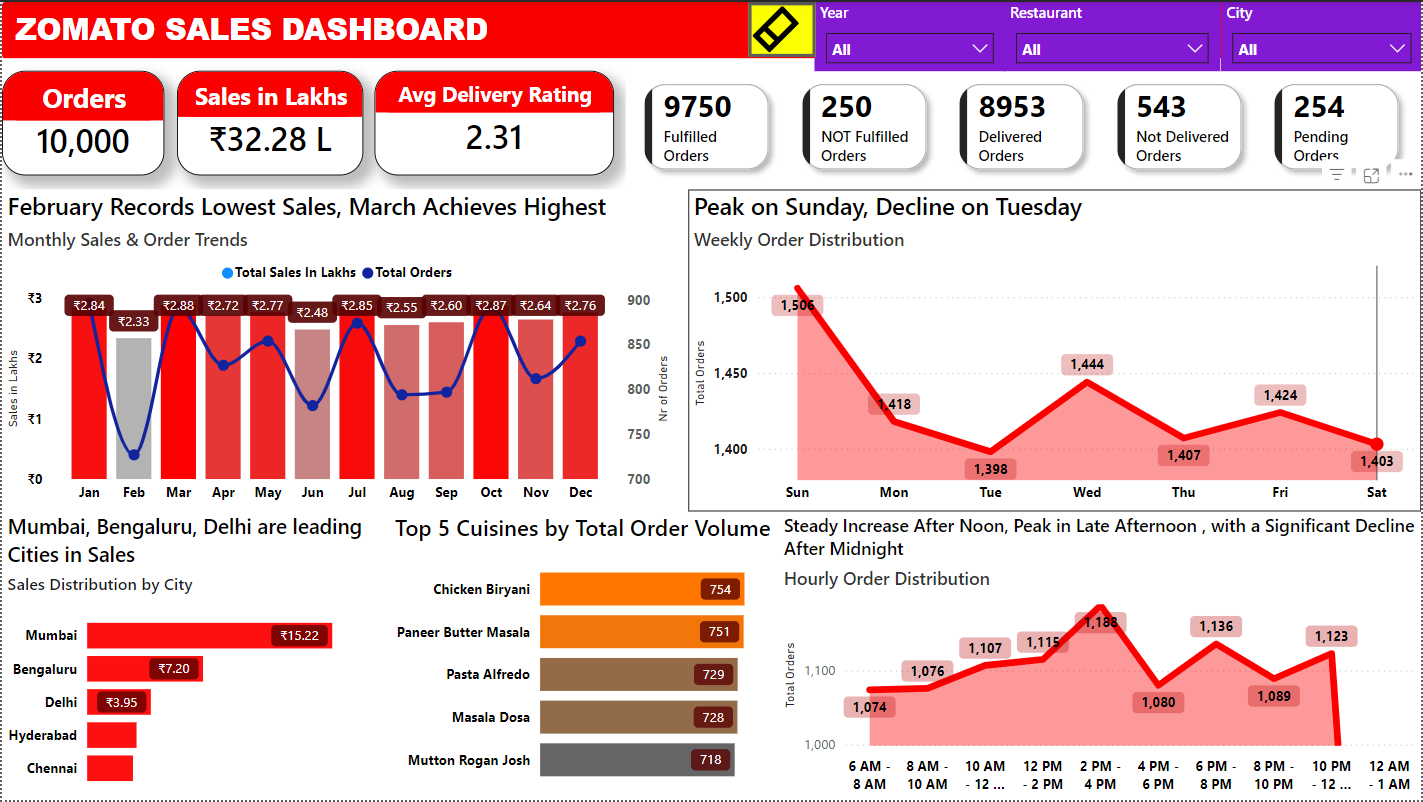

The page's visual inventory and layout, read from the dashboard file:
{"tool":"powerbi","page":{"name":"Sales and Orders Overview","canvas":[1280,720],"ordinal":0},"visuals":[{"type":"shape","box":[0,0,1280,51],"z":0},{"type":"textbox","box":[0,0,459,51],"z":1000},{"type":"card","title":"Orders","fields":{"Values":["Orders.Total Orders"]},"box":[0,61.9,146.6,94.8],"z":2000},{"type":"card","title":"Sales in Lakhs","fields":{"Values":["Orders.Sales in Lakhs (Card)"]},"box":[158,61.9,168.1,94.8],"z":3000},{"type":"card","title":"Avg Delivery Rating","fields":{"Values":["Orders_x_Deliveries.Avg_Delivery_Rating"]},"box":[336.2,61.9,216.1,94.8],"z":4000},{"type":"lineStackedColumnComboChart","title":"February Records Lowest Sales, March Achieves Highest","fields":{"Category":["DateTable.Month_Name"],"Y2":["Orders.Total Orders"],"Y":["Orders.Total Sales"]},"box":[0,169.4,607.9,290.7],"z":5000},{"type":"clusteredBarChart","title":" Mumbai, Bengaluru, Delhi are leading Cities in Sales","fields":{"Category":["Restaurants.city"],"Y":["Orders.Total Sales"]},"box":[0,460.3,349.6,260],"z":6000},{"type":"clusteredBarChart","title":"Top 5 Cuisines by Total Order Volume","fields":{"Y":["Orders.Total Orders"],"Category":["Orders.order_item"]},"box":[349.6,460.3,350.8,260],"z":7000},{"type":"cardVisual","fields":{"Data":["Orders.Fulfilled Orders","Orders.NOT Fulfilled Orders","Orders.Delivered Orders","Orders.Not Delivered Orders","Orders.Pending Orders"]},"box":[562.3,62.2,717.8,107],"z":8000},{"type":"lineChart","title":"Peak on Sunday, Decline on Tuesday","fields":{"Category":["DateTable.WeekdayName"],"Y":["Orders.Total Orders"]},"box":[619.3,169.4,661,290.7],"z":9000},{"type":"lineChart","title":"Steady Increase After Noon, Peak in Late Afternoon , with a Significant Decline After Midnight","fields":{"Y":["Orders.Total Orders"],"Category":["Orders.Time Slot"]},"box":[700.2,460,580.1,260.3],"z":10000},{"type":"slicer","title":"Year","fields":{"Values":["DateTable.Year"]},"box":[732.7,0,171.7,62.2],"z":11000},{"type":"slicer","title":"Restaurant","fields":{"Values":["Restaurants.restaurant_name"]},"box":[904.4,0,194.1,62.2],"z":12000},{"type":"slicer","title":"City","fields":{"Values":["Restaurants.city"]},"box":[1098.4,0,181.6,62.2],"z":13000},{"type":"actionButton","box":[673,0,61,49.8],"z":14000}]}

Visuals, with their boxes in screenshot pixels (x1, y1, x2, y2), scaled from the page's 1280x720 canvas onto the 1423x802 screenshot:
shape: 0,0,1422,57
textbox: 0,0,510,57
"Orders" card: 0,69,163,175
"Sales in Lakhs" card: 176,69,363,175
"Avg Delivery Rating" card: 374,69,614,175
"February Records Lowest Sales, March Achieves Highest" lineStackedColumnComboChart: 0,189,676,513
" Mumbai, Bengaluru, Delhi are leading Cities in Sales" clusteredBarChart: 0,513,389,801
"Top 5 Cuisines by Total Order Volume" clusteredBarChart: 389,513,779,801
cardVisual - Orders.Fulfilled Orders x Orders.NOT Fulfilled Orders: 625,69,1422,188
"Peak on Sunday, Decline on Tuesday" lineChart: 688,189,1422,513
"Steady Increase After Noon, Peak in Late Afternoon , with a Significant Decline After Midnight" lineChart: 778,512,1422,801
"Year" slicer: 815,0,1005,69
"Restaurant" slicer: 1005,0,1221,69
"City" slicer: 1221,0,1422,69
actionButton: 748,0,816,55
